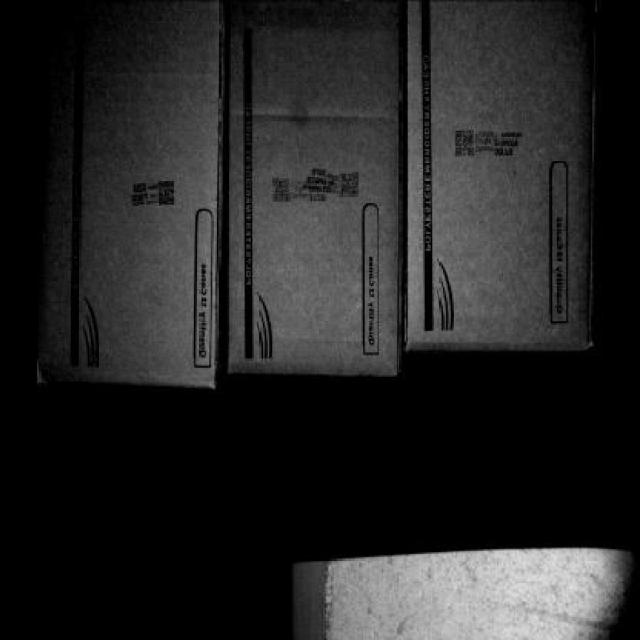cardboxes: (218, 4, 397, 373), (401, 6, 590, 352), (42, 3, 209, 389)
